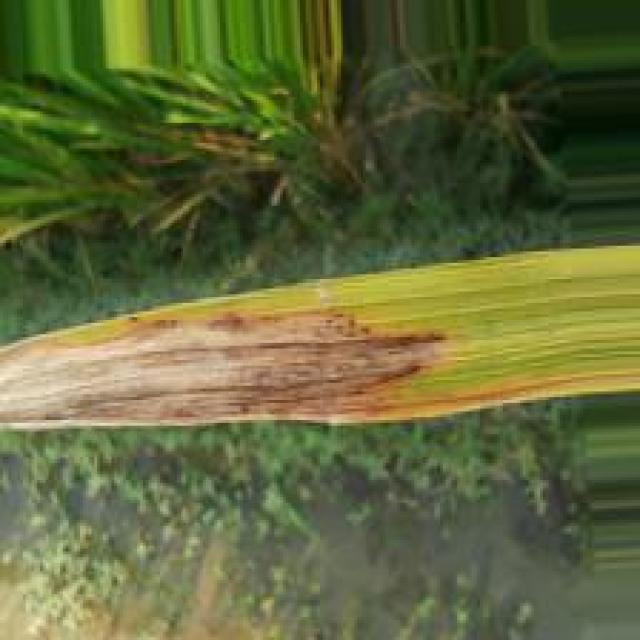Rice False Smut: (1, 310, 594, 427)
